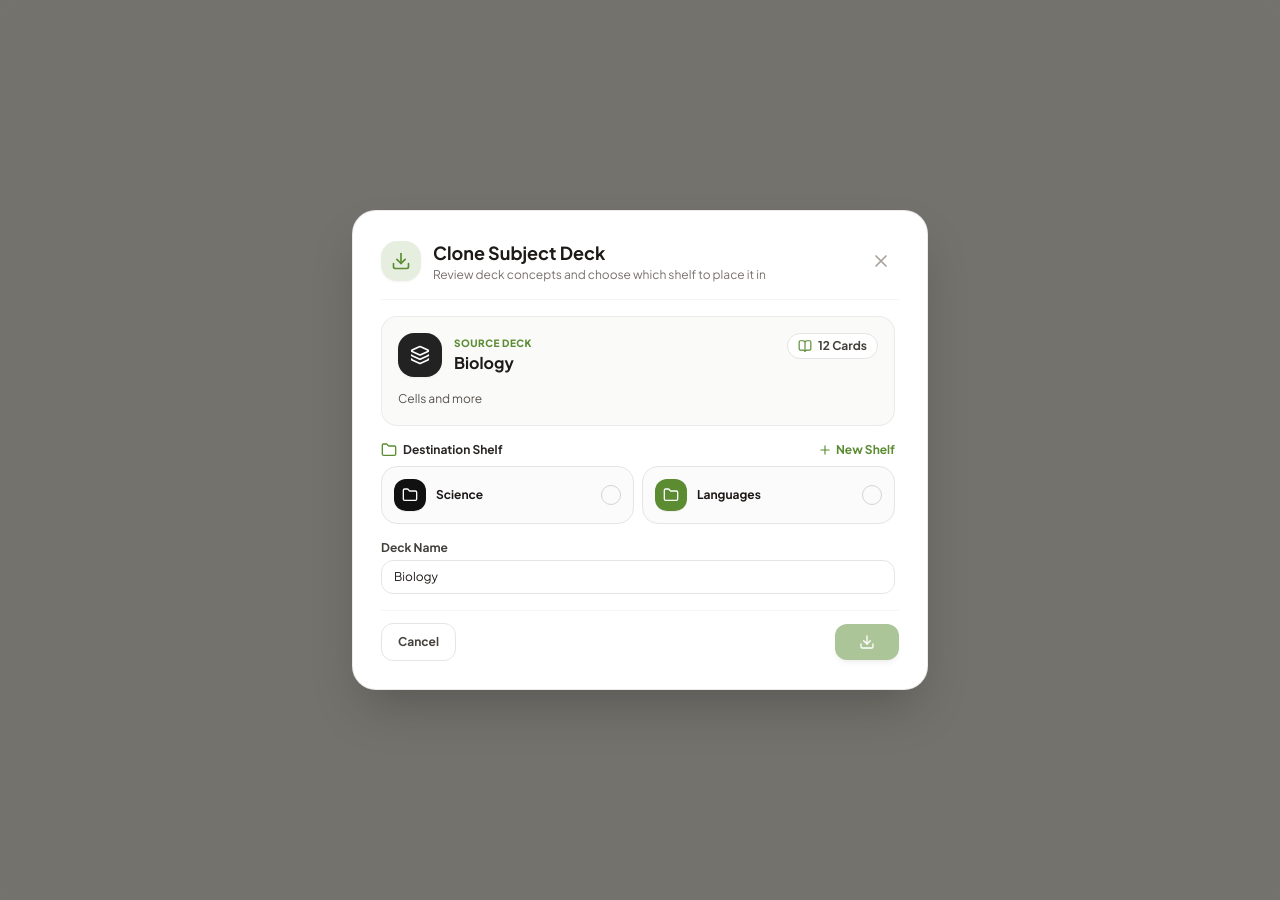
CloneSubjectModal › shows the API error message when cloning fails
Click the button with test id "clone-shelf-sh1". click: {"x": 508, "y": 495}
box: top-left (381, 466), bottom-right (634, 524)
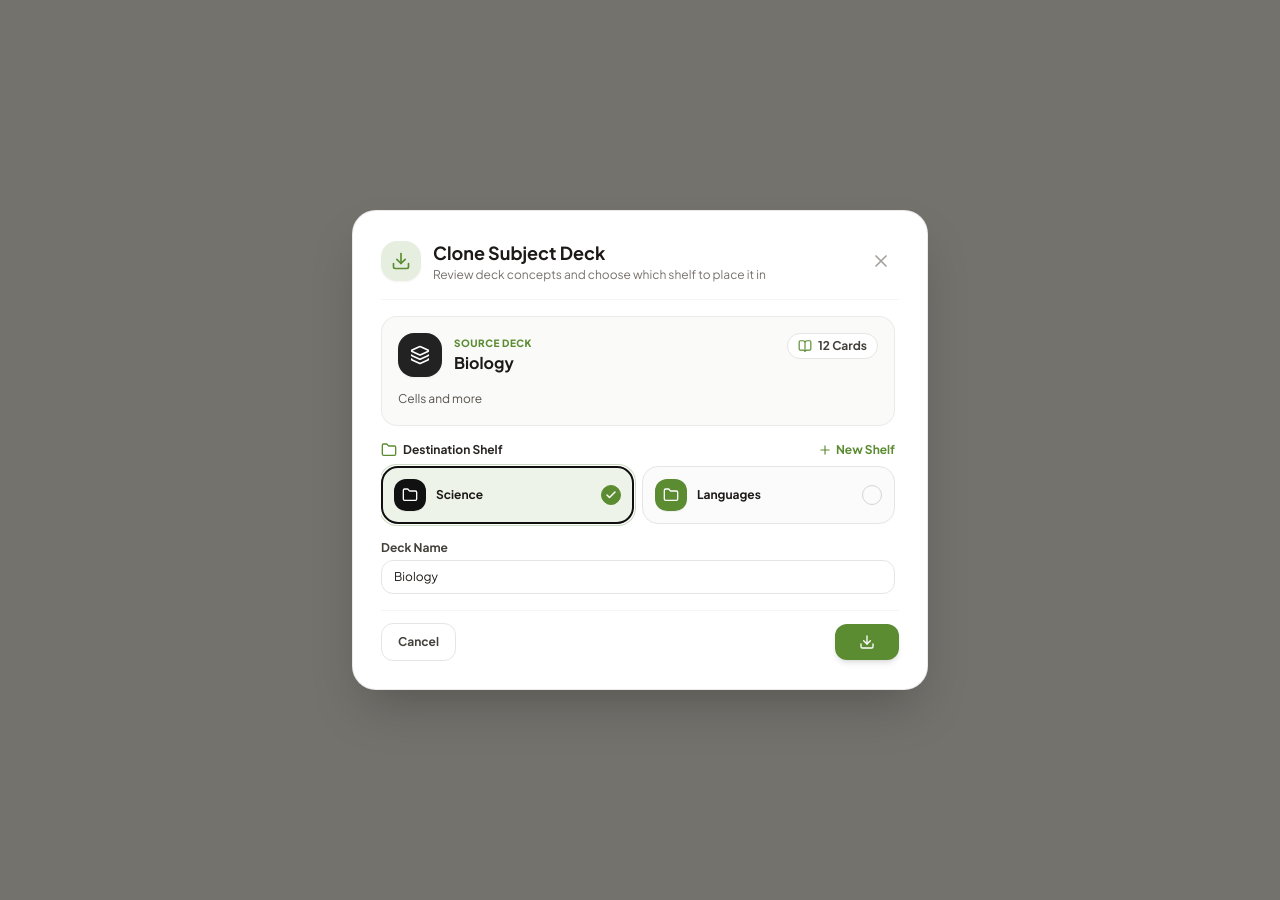
Click the button with test id "btn-confirm-clone". click: {"x": 867, "y": 642}
box: top-left (835, 624), bottom-right (899, 660)
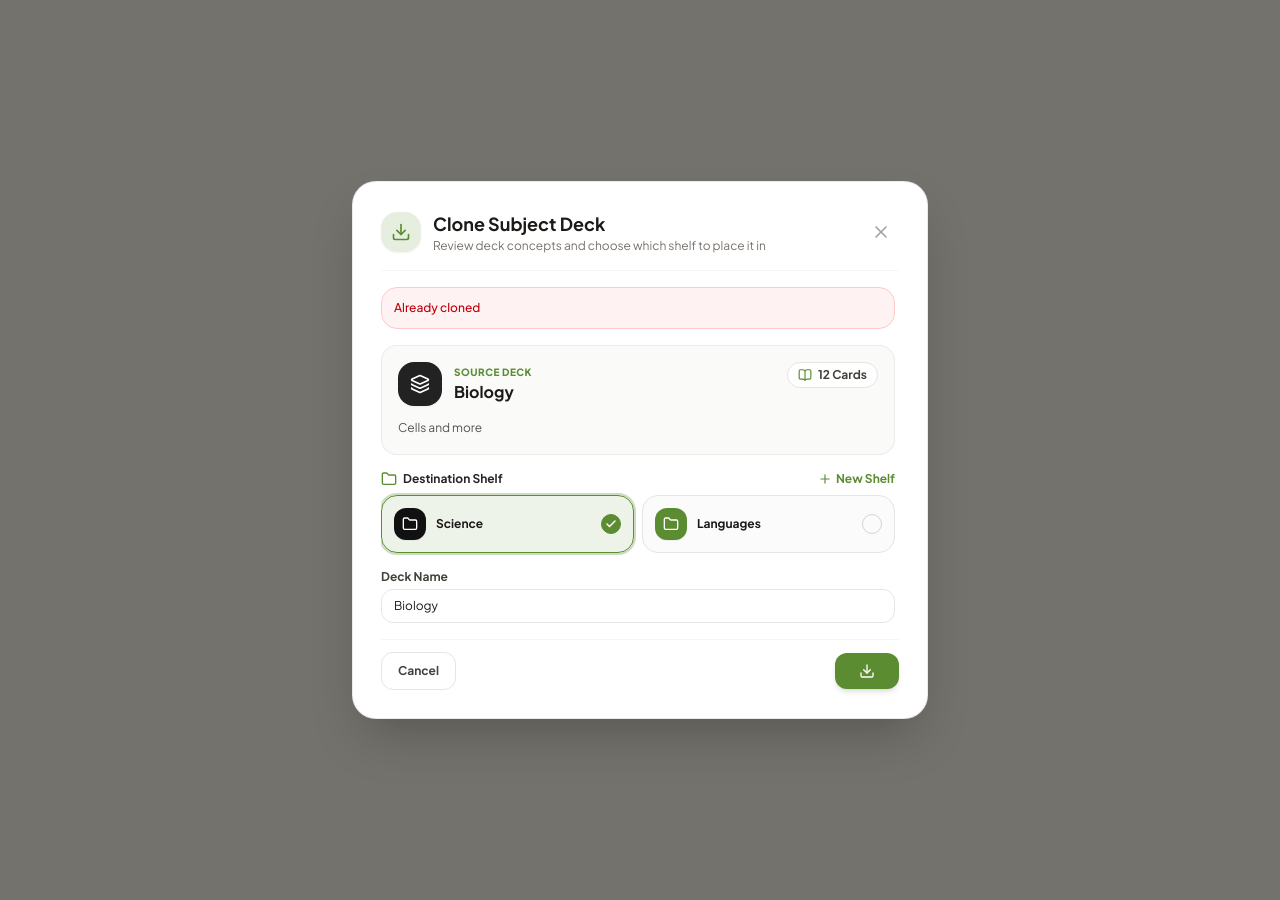
Expected: the text "Already cloned" is shown, top-left (381, 287), bottom-right (895, 329)
